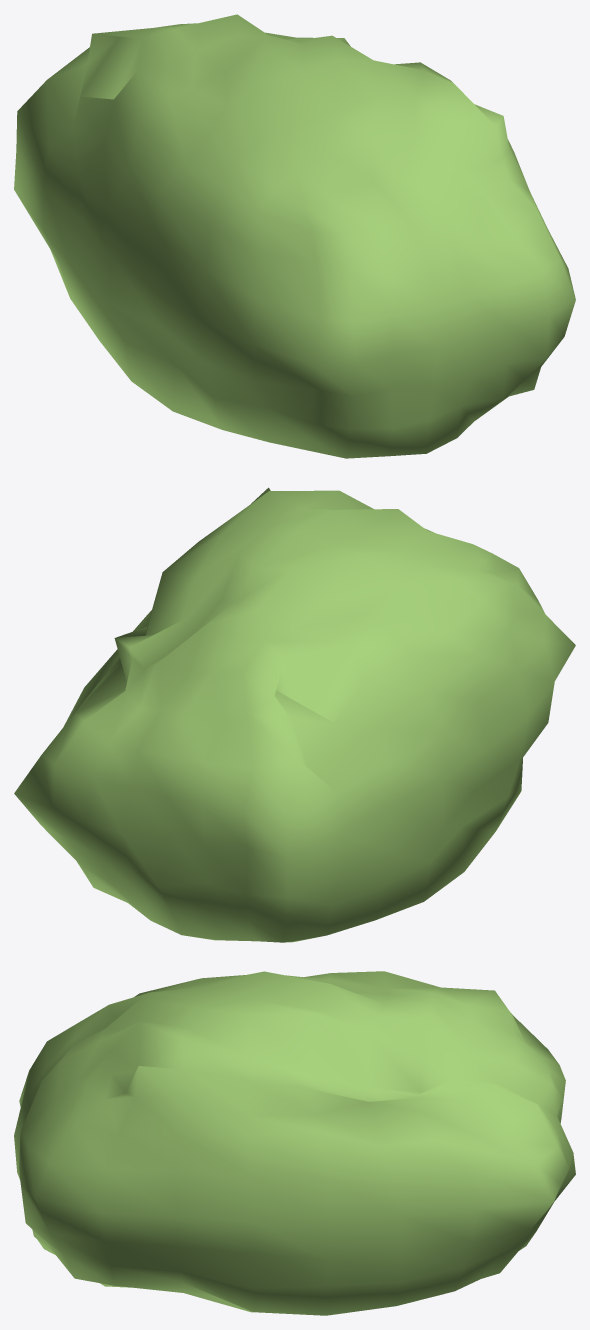
Rendered from Bush_1.fbx.
3 views of the same model, one above another, from view 1: azimuth 30°, elevation 25°; view 2: azimuth 150°, elevation 25°; view 3: azimuth 270°, elevation 25° (orthographic). The views are drawn at different scales.
Visible parts, largest first — view 1: Cube.002; view 2: Cube.002; view 3: Cube.002.
Part boxes in pixels (left/top/right/bottom): Cube.002: left=14, top=14, right=575, bottom=458; Cube.002: left=14, top=487, right=575, bottom=942; Cube.002: left=14, top=971, right=575, bottom=1315.
Size of the model in its own units: 287 by 264 by 458.
